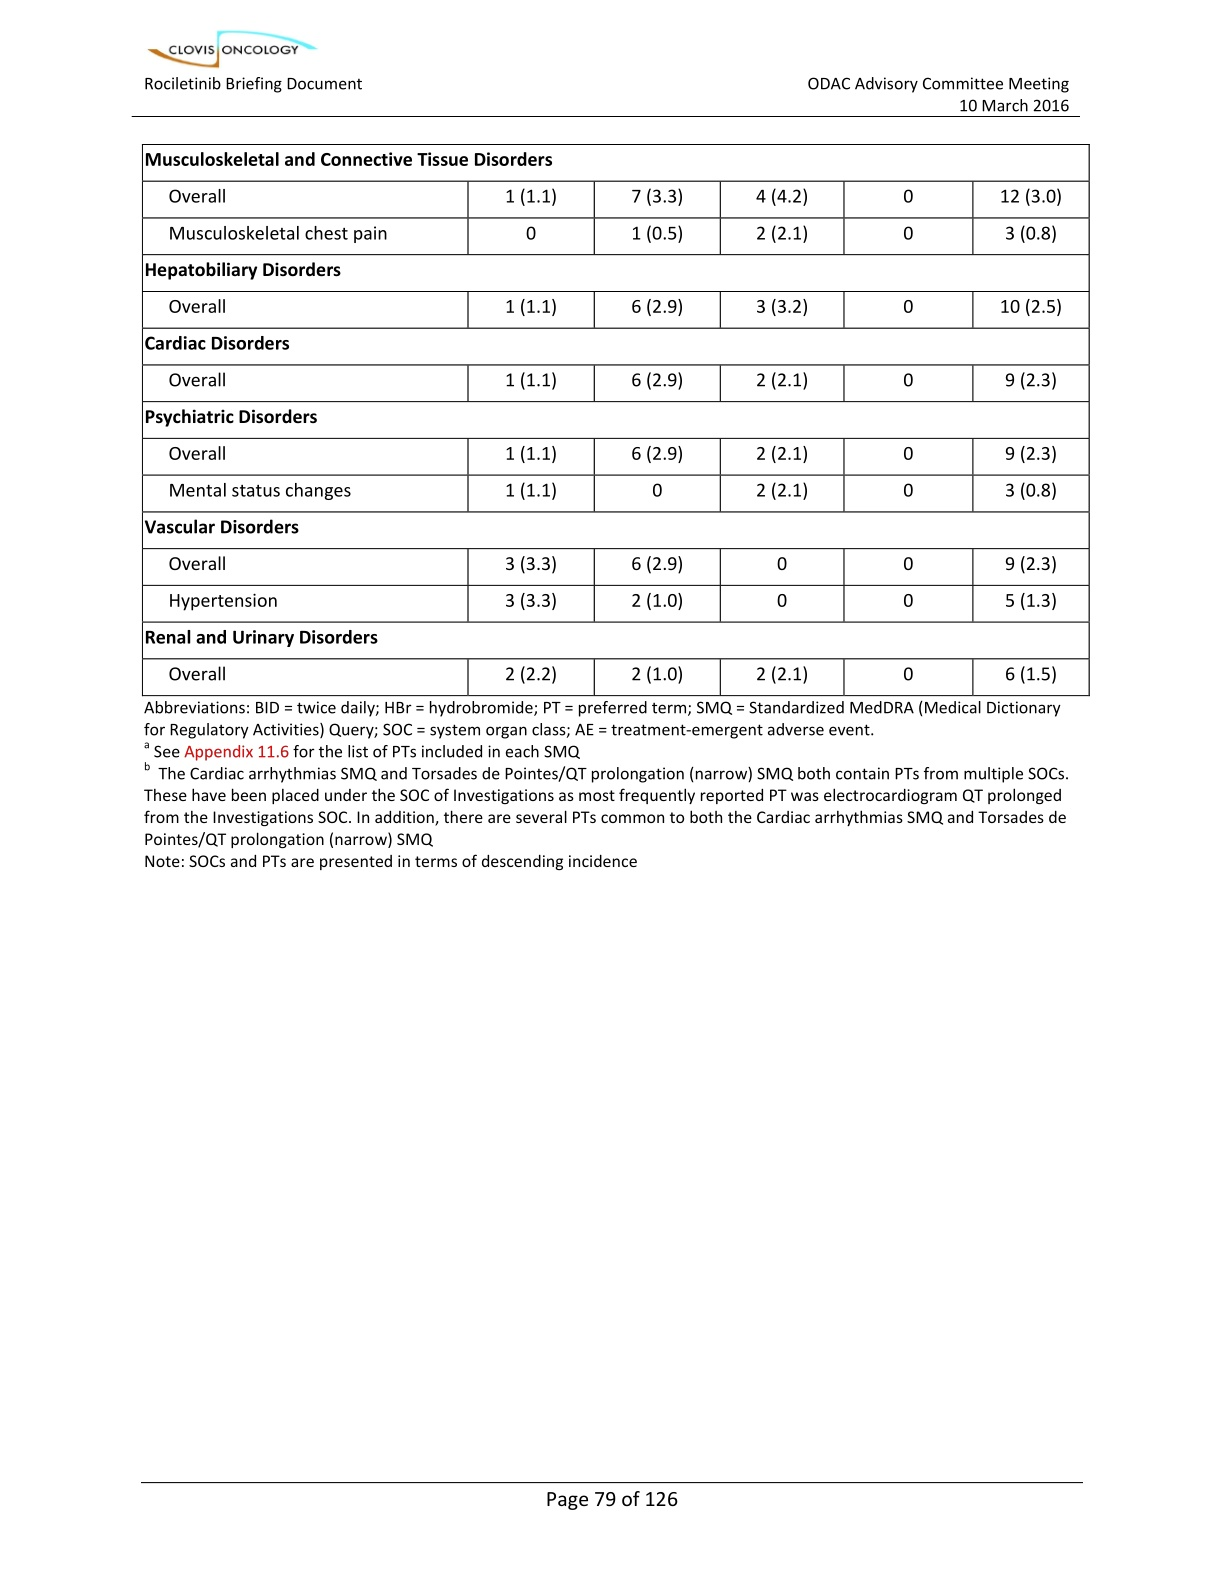merged_cells: (141, 143, 1090, 697)
